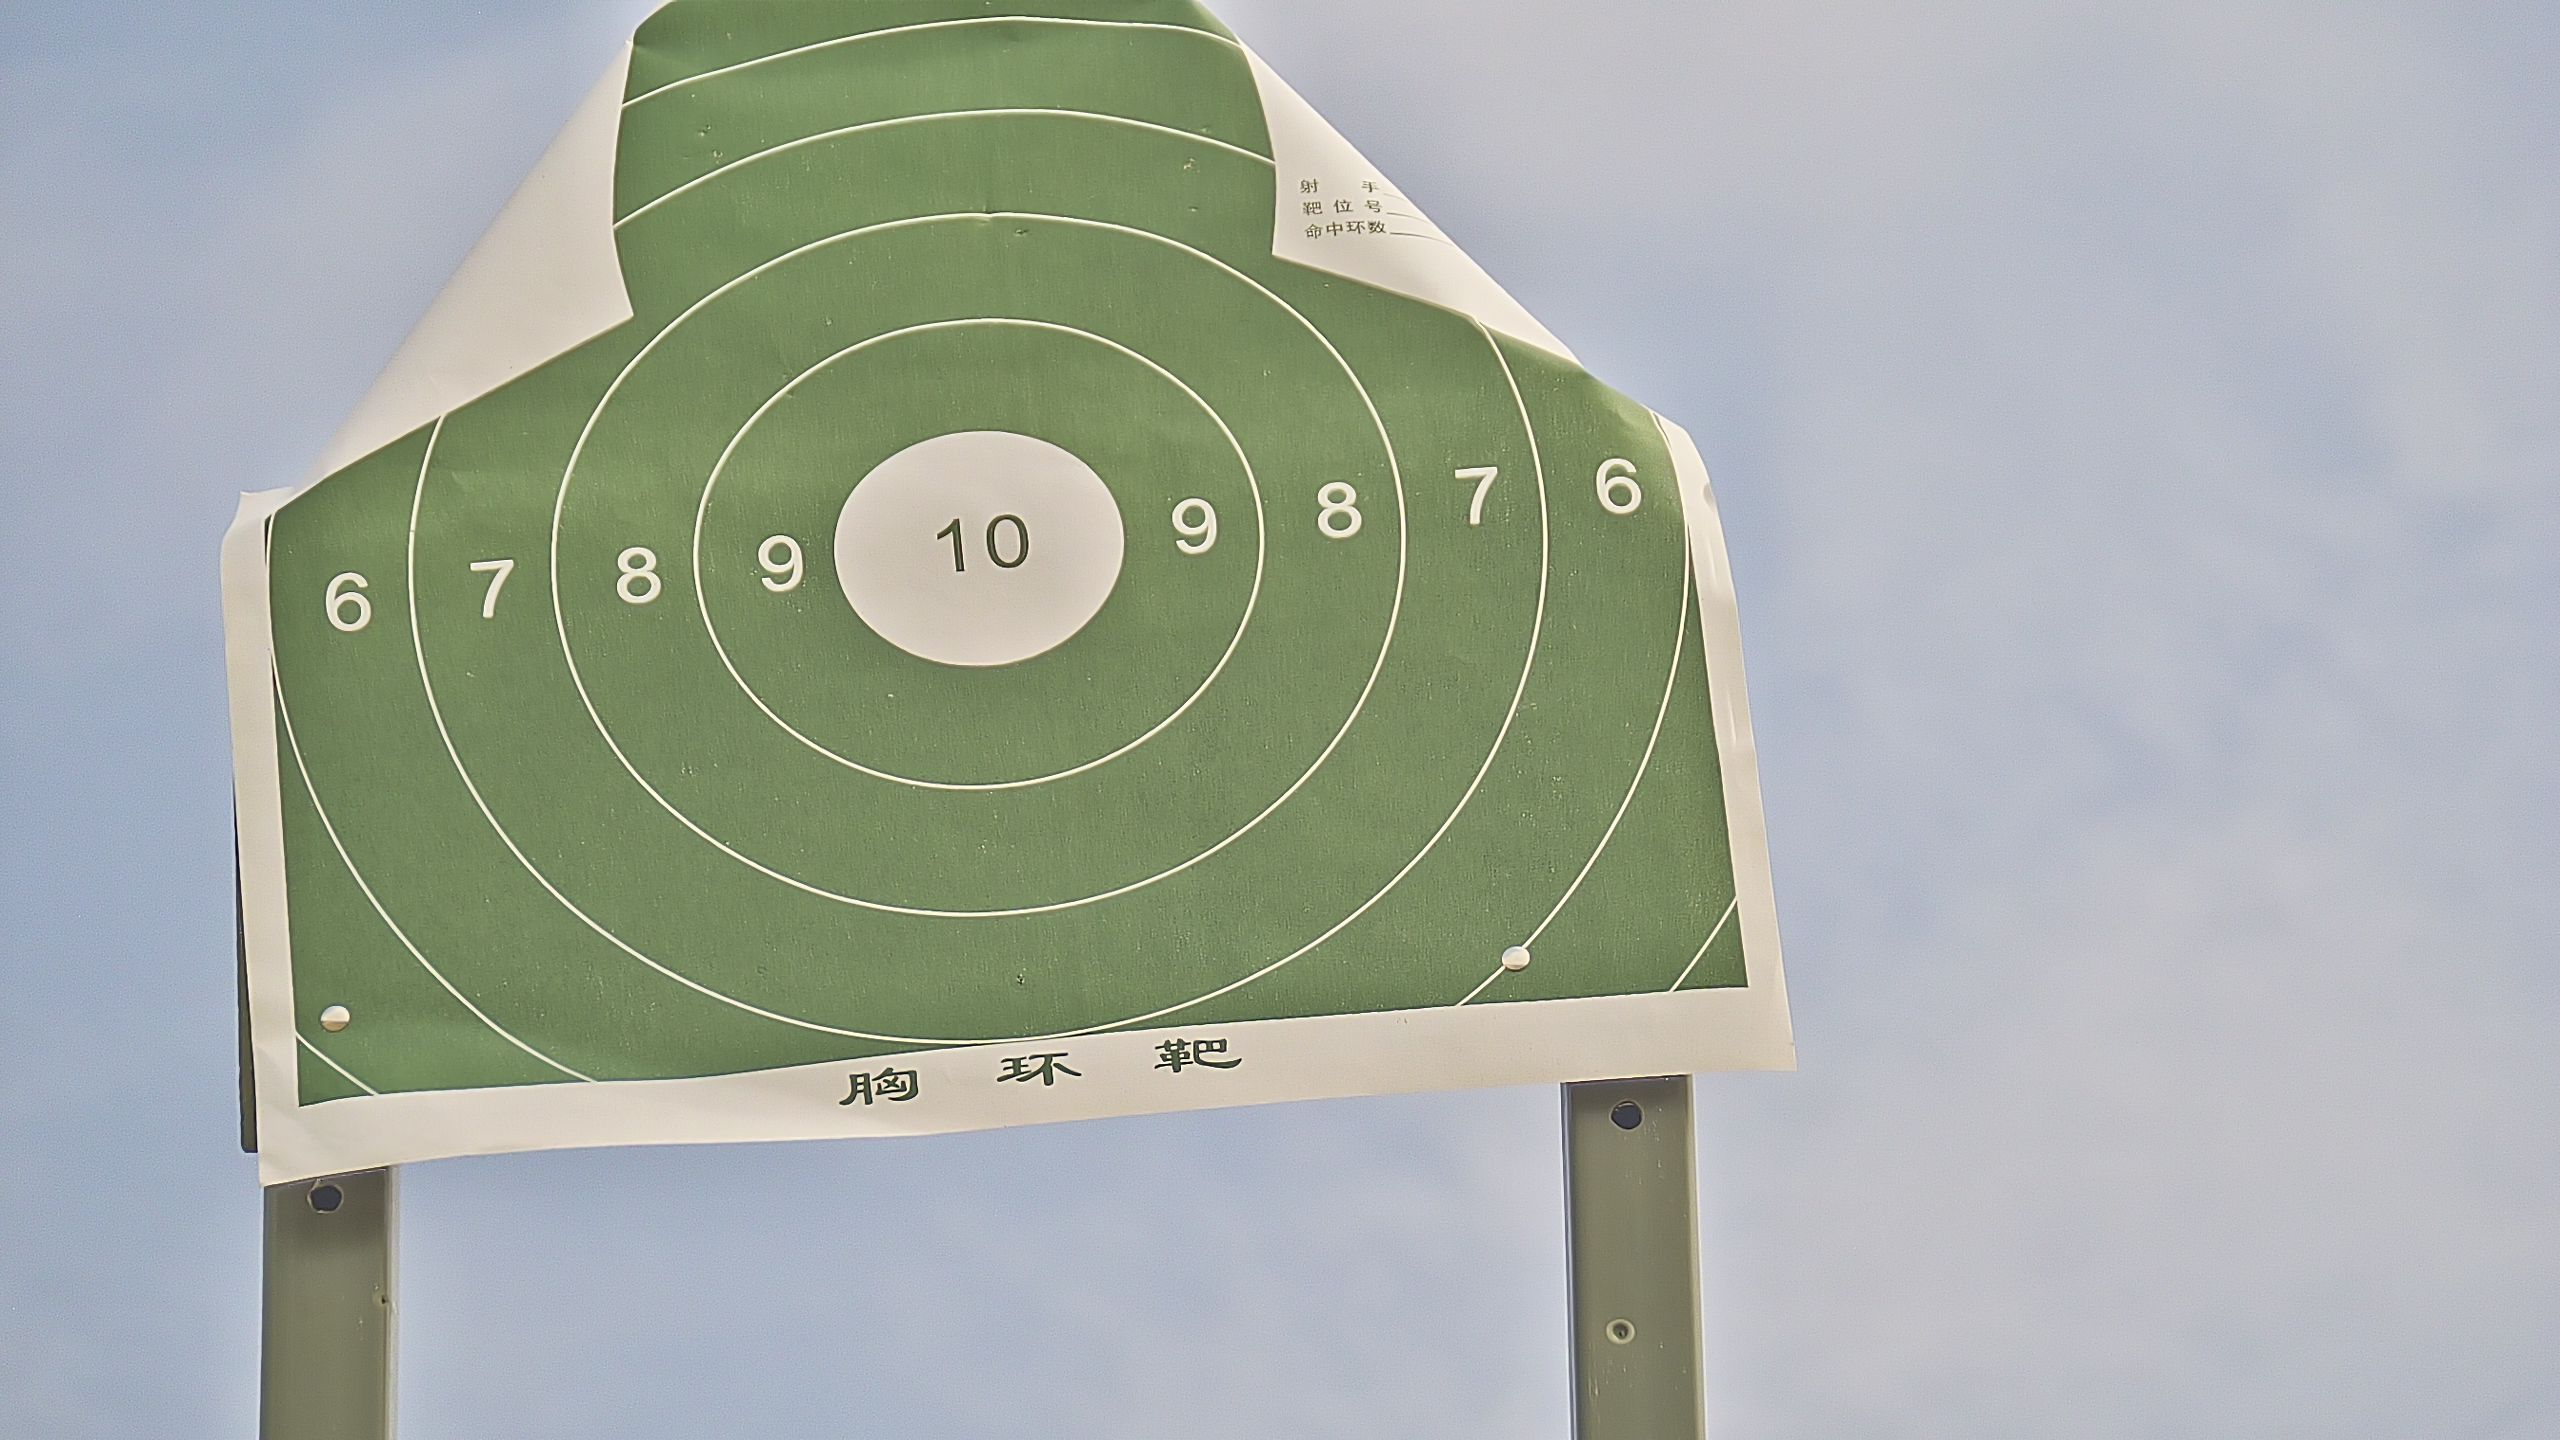kernel: (972, 542, 976, 547)
target: (260, 2, 1755, 1116)
ten: (828, 427, 1129, 668)
